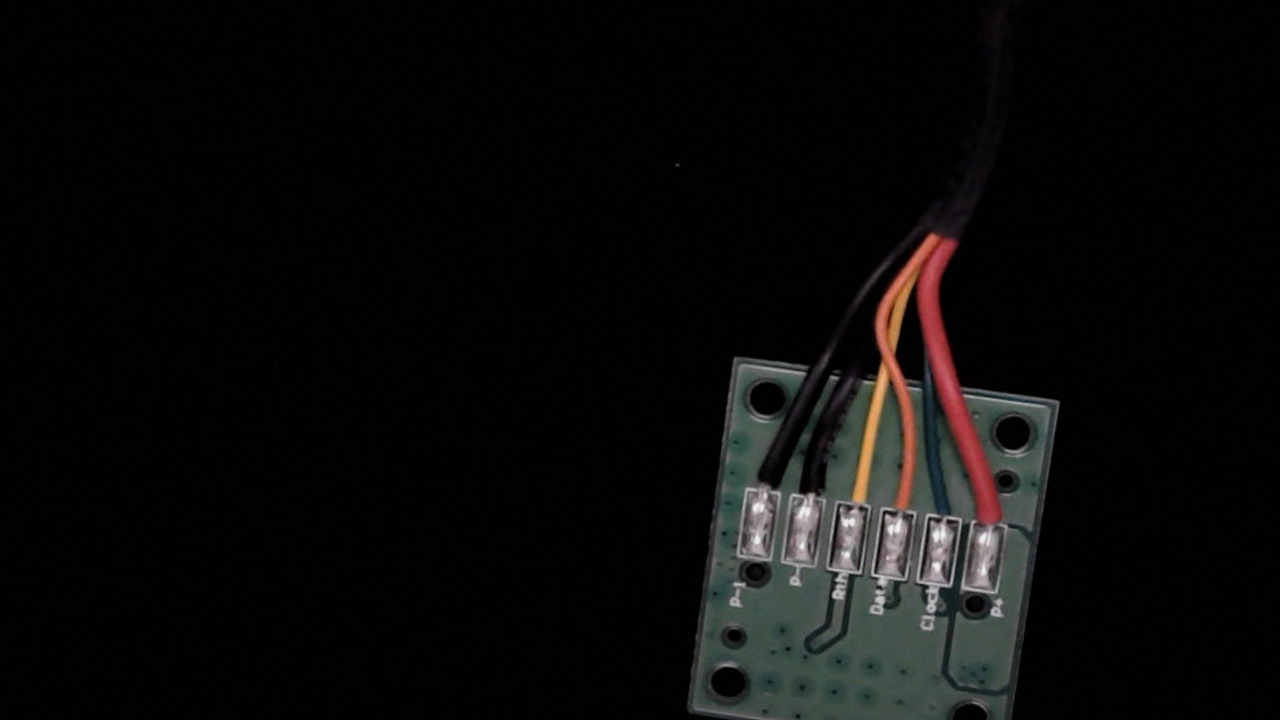Black: (788, 431, 841, 517)
Black1: (741, 431, 791, 510)
Green: (921, 468, 969, 540)
Orange: (878, 449, 928, 533)
Red: (965, 471, 1016, 549)
Yellow: (831, 438, 884, 525)
